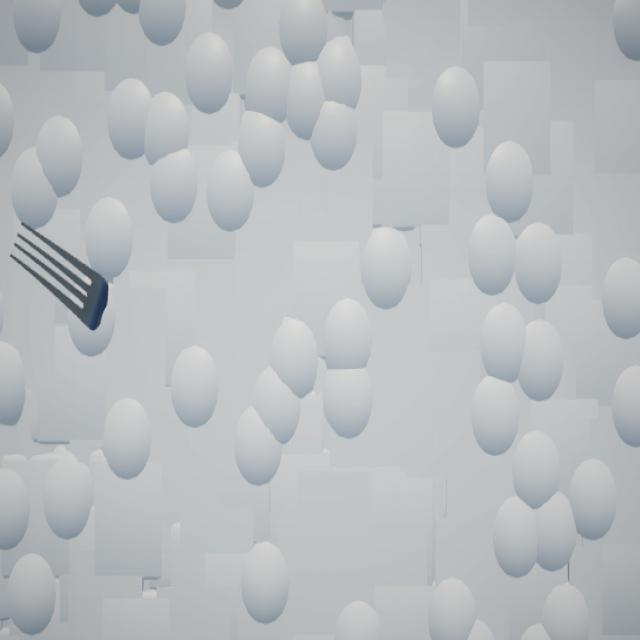top_folk: (12, 223, 110, 332)
